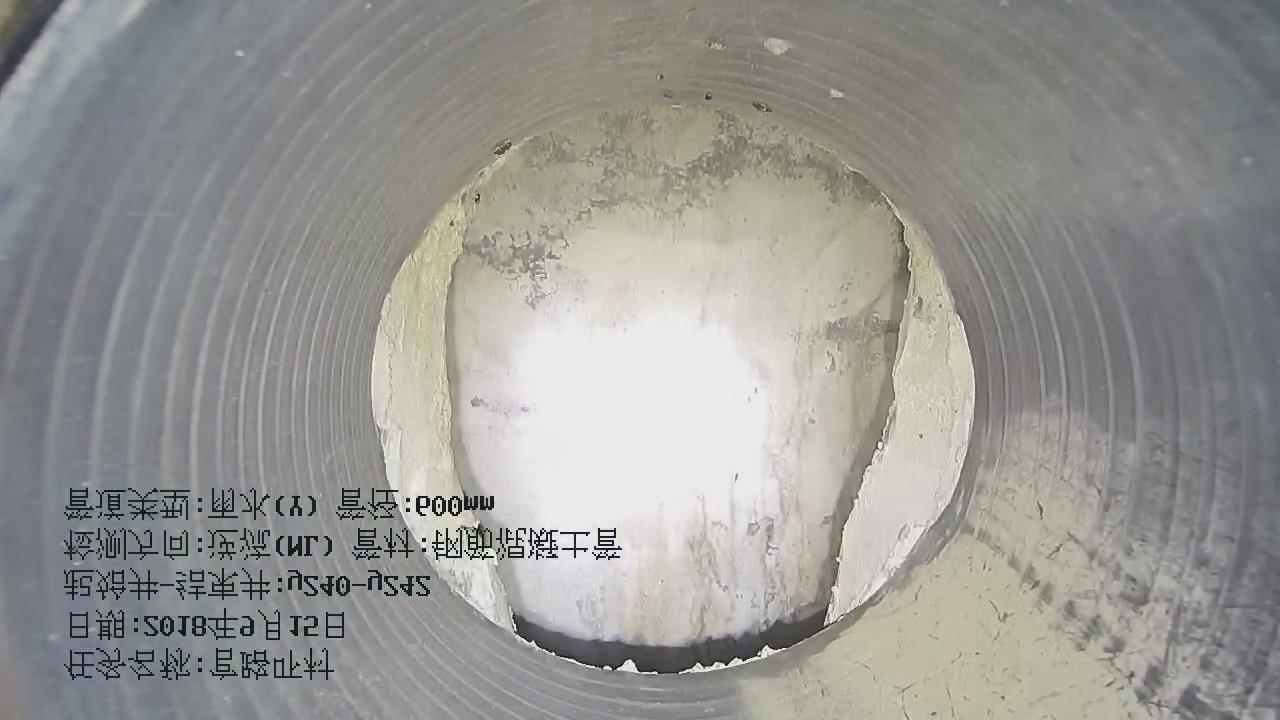CQBG: (372, 151, 517, 637), (826, 199, 974, 626)
